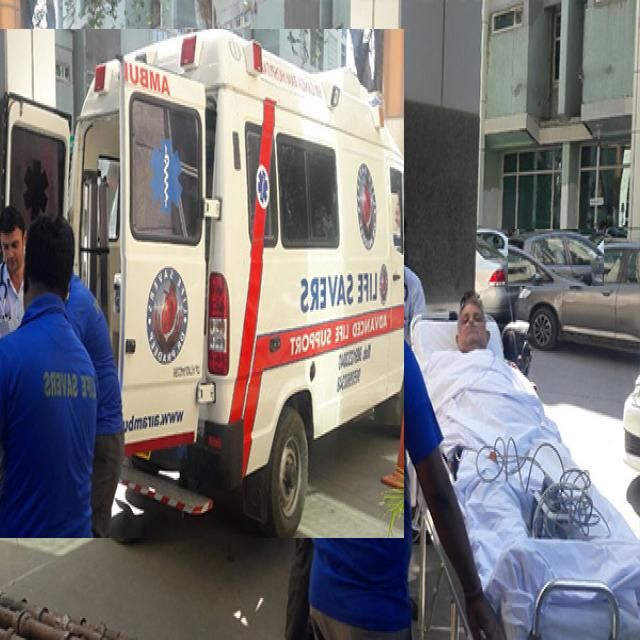car: (515, 242, 640, 349), (509, 229, 604, 286)
emergency: (0, 30, 404, 538)
